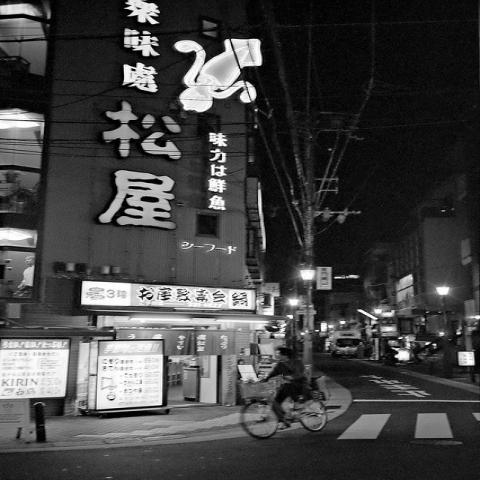truck: (330, 330, 364, 358)
